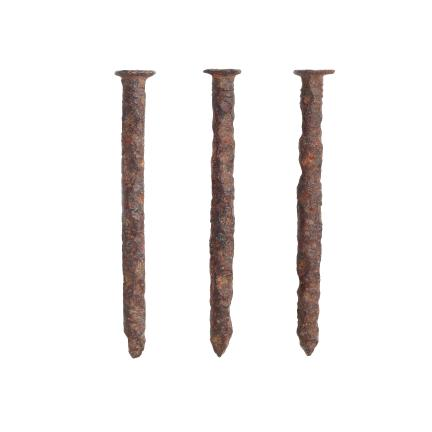karat: (294, 70, 334, 355)
